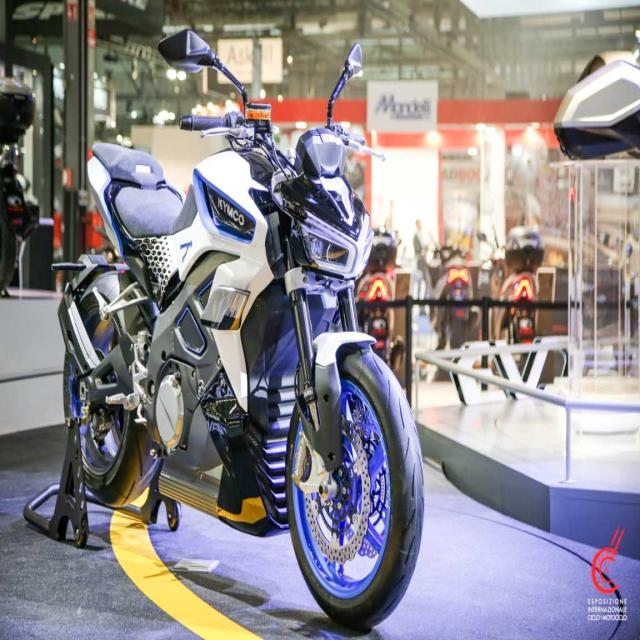motorcycle: (24, 30, 424, 629)
